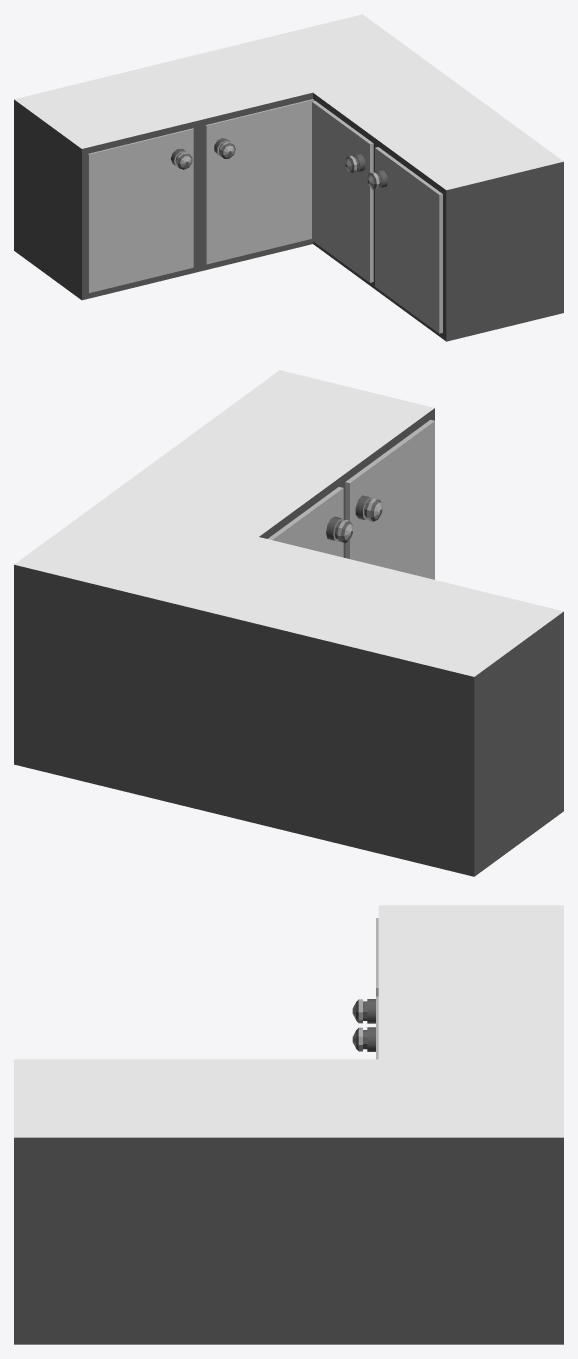
The model's file is Cabinet_Gray_Lower.fbx.
3 renders of one model, top to bottom at view 1: azimuth 30°, elevation 25°; view 2: azimuth 150°, elevation 25°; view 3: azimuth 270°, elevation 25°, orthographic. The views are drawn at different scales.
Visible parts, largest first — view 1: Cabinet_Gray_Lower, Cabinet_Gray_Lower02, Cabinet_Gray_Lower01, Cabinet_Gray_Lower04, Cabinet_Gray_Lower03; view 2: Cabinet_Gray_Lower, Cabinet_Gray_Lower04, Cabinet_Gray_Lower03; view 3: Cabinet_Gray_Lower, Cabinet_Gray_Lower01, Cabinet_Gray_Lower02.
Part boxes in pixels (box(x1,y1,x2,y2)): Cabinet_Gray_Lower: box(14, 14, 563, 341); Cabinet_Gray_Lower02: box(204, 99, 314, 264); Cabinet_Gray_Lower01: box(88, 128, 193, 292); Cabinet_Gray_Lower04: box(367, 147, 442, 333); Cabinet_Gray_Lower03: box(312, 101, 373, 282); Cabinet_Gray_Lower: box(14, 370, 563, 876); Cabinet_Gray_Lower04: box(345, 420, 434, 579); Cabinet_Gray_Lower03: box(268, 487, 352, 557); Cabinet_Gray_Lower: box(14, 905, 563, 1344); Cabinet_Gray_Lower01: box(352, 918, 378, 1023); Cabinet_Gray_Lower02: box(352, 996, 378, 1059).
Size of the model in its own units: 200 by 82.98 by 200.
